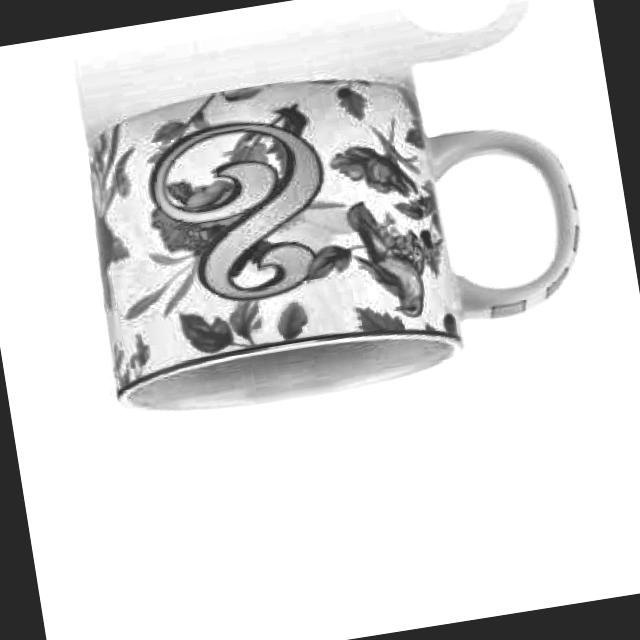Mug: (66, 35, 606, 432)
